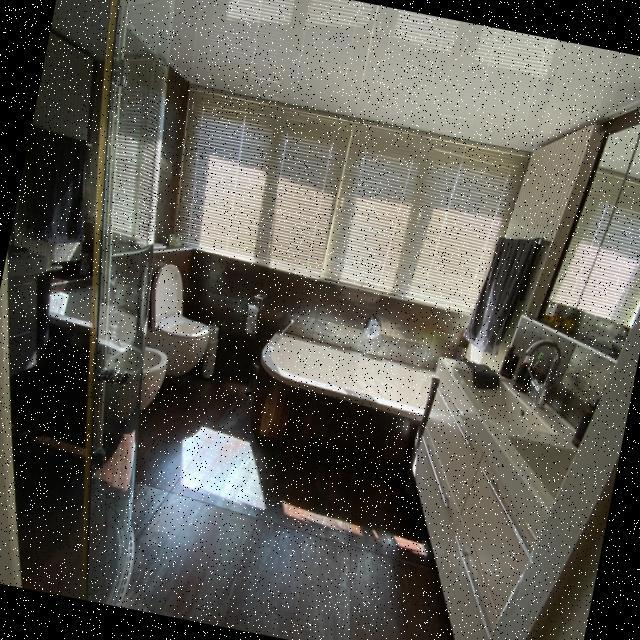bath: (244, 296, 444, 462)
douche: (0, 0, 247, 608)
toilet: (134, 258, 222, 384), (92, 320, 174, 427)
wastafel: (374, 373, 563, 640), (413, 318, 639, 526)
